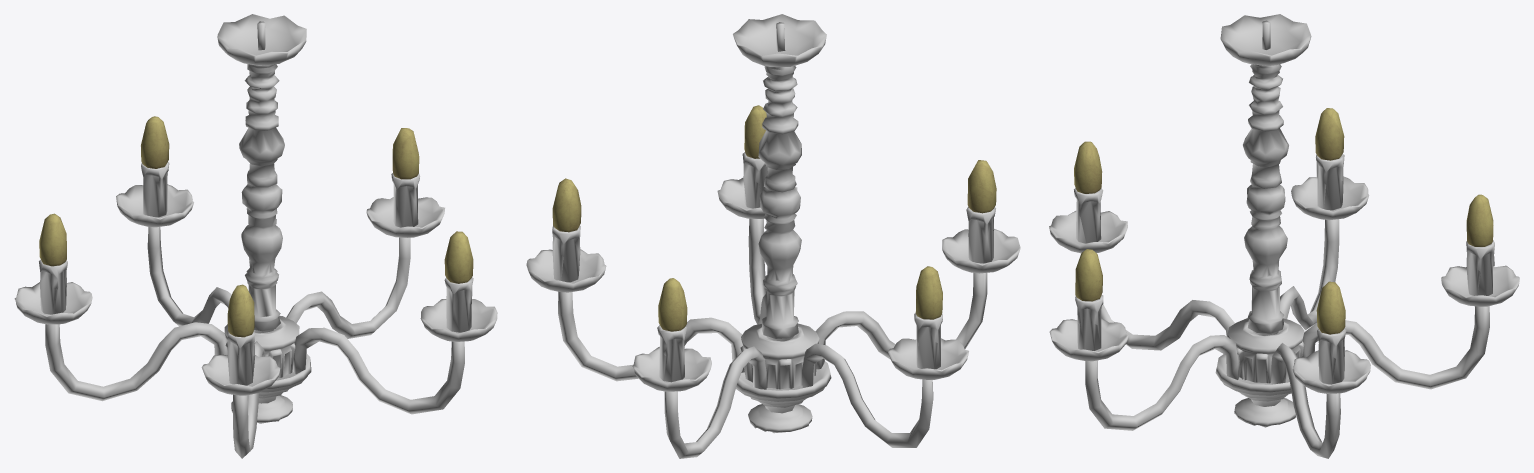
Rendered from chandelier.fbx.
The picture shows the model from 3 angles, left to right: view 1: azimuth 30°, elevation 25°; view 2: azimuth 150°, elevation 25°; view 3: azimuth 270°, elevation 25°; orthographic projection. The views are drawn at different scales.
Parts seen in each view (by area): view 1: chandelier.001; view 2: chandelier.001; view 3: chandelier.001.
Part boxes in pixels (<box>): chandelier.001: <box>14,14,497,458</box>; chandelier.001: <box>526,14,1020,458</box>; chandelier.001: <box>1049,14,1519,458</box>.
Size of the model in its own units: 71.82 by 64.58 by 69.02.
